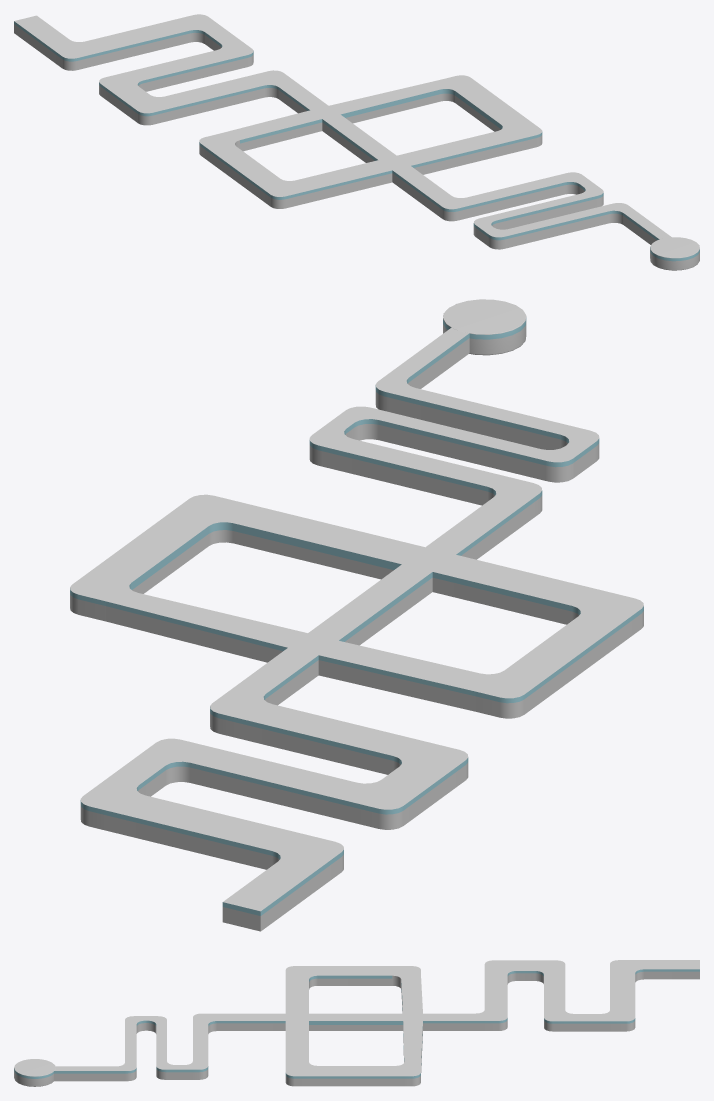
File: Map_001.fbx
The picture shows the model from 3 angles, top to bottom: view 1: azimuth 30°, elevation 25°; view 2: azimuth 150°, elevation 25°; view 3: azimuth 270°, elevation 25°; orthographic projection. The views are drawn at different scales.
Visible parts, largest first — view 1: polySurface412; view 2: polySurface412; view 3: polySurface412.
Part boxes in pixels (x1=…): polySurface412: x1=14, y1=14, x2=699, y2=270; polySurface412: x1=70, y1=299, x2=643, y2=931; polySurface412: x1=14, y1=960, x2=699, y2=1086.
Bounding box in the file's own units: 363 × 15.71 × 904.
